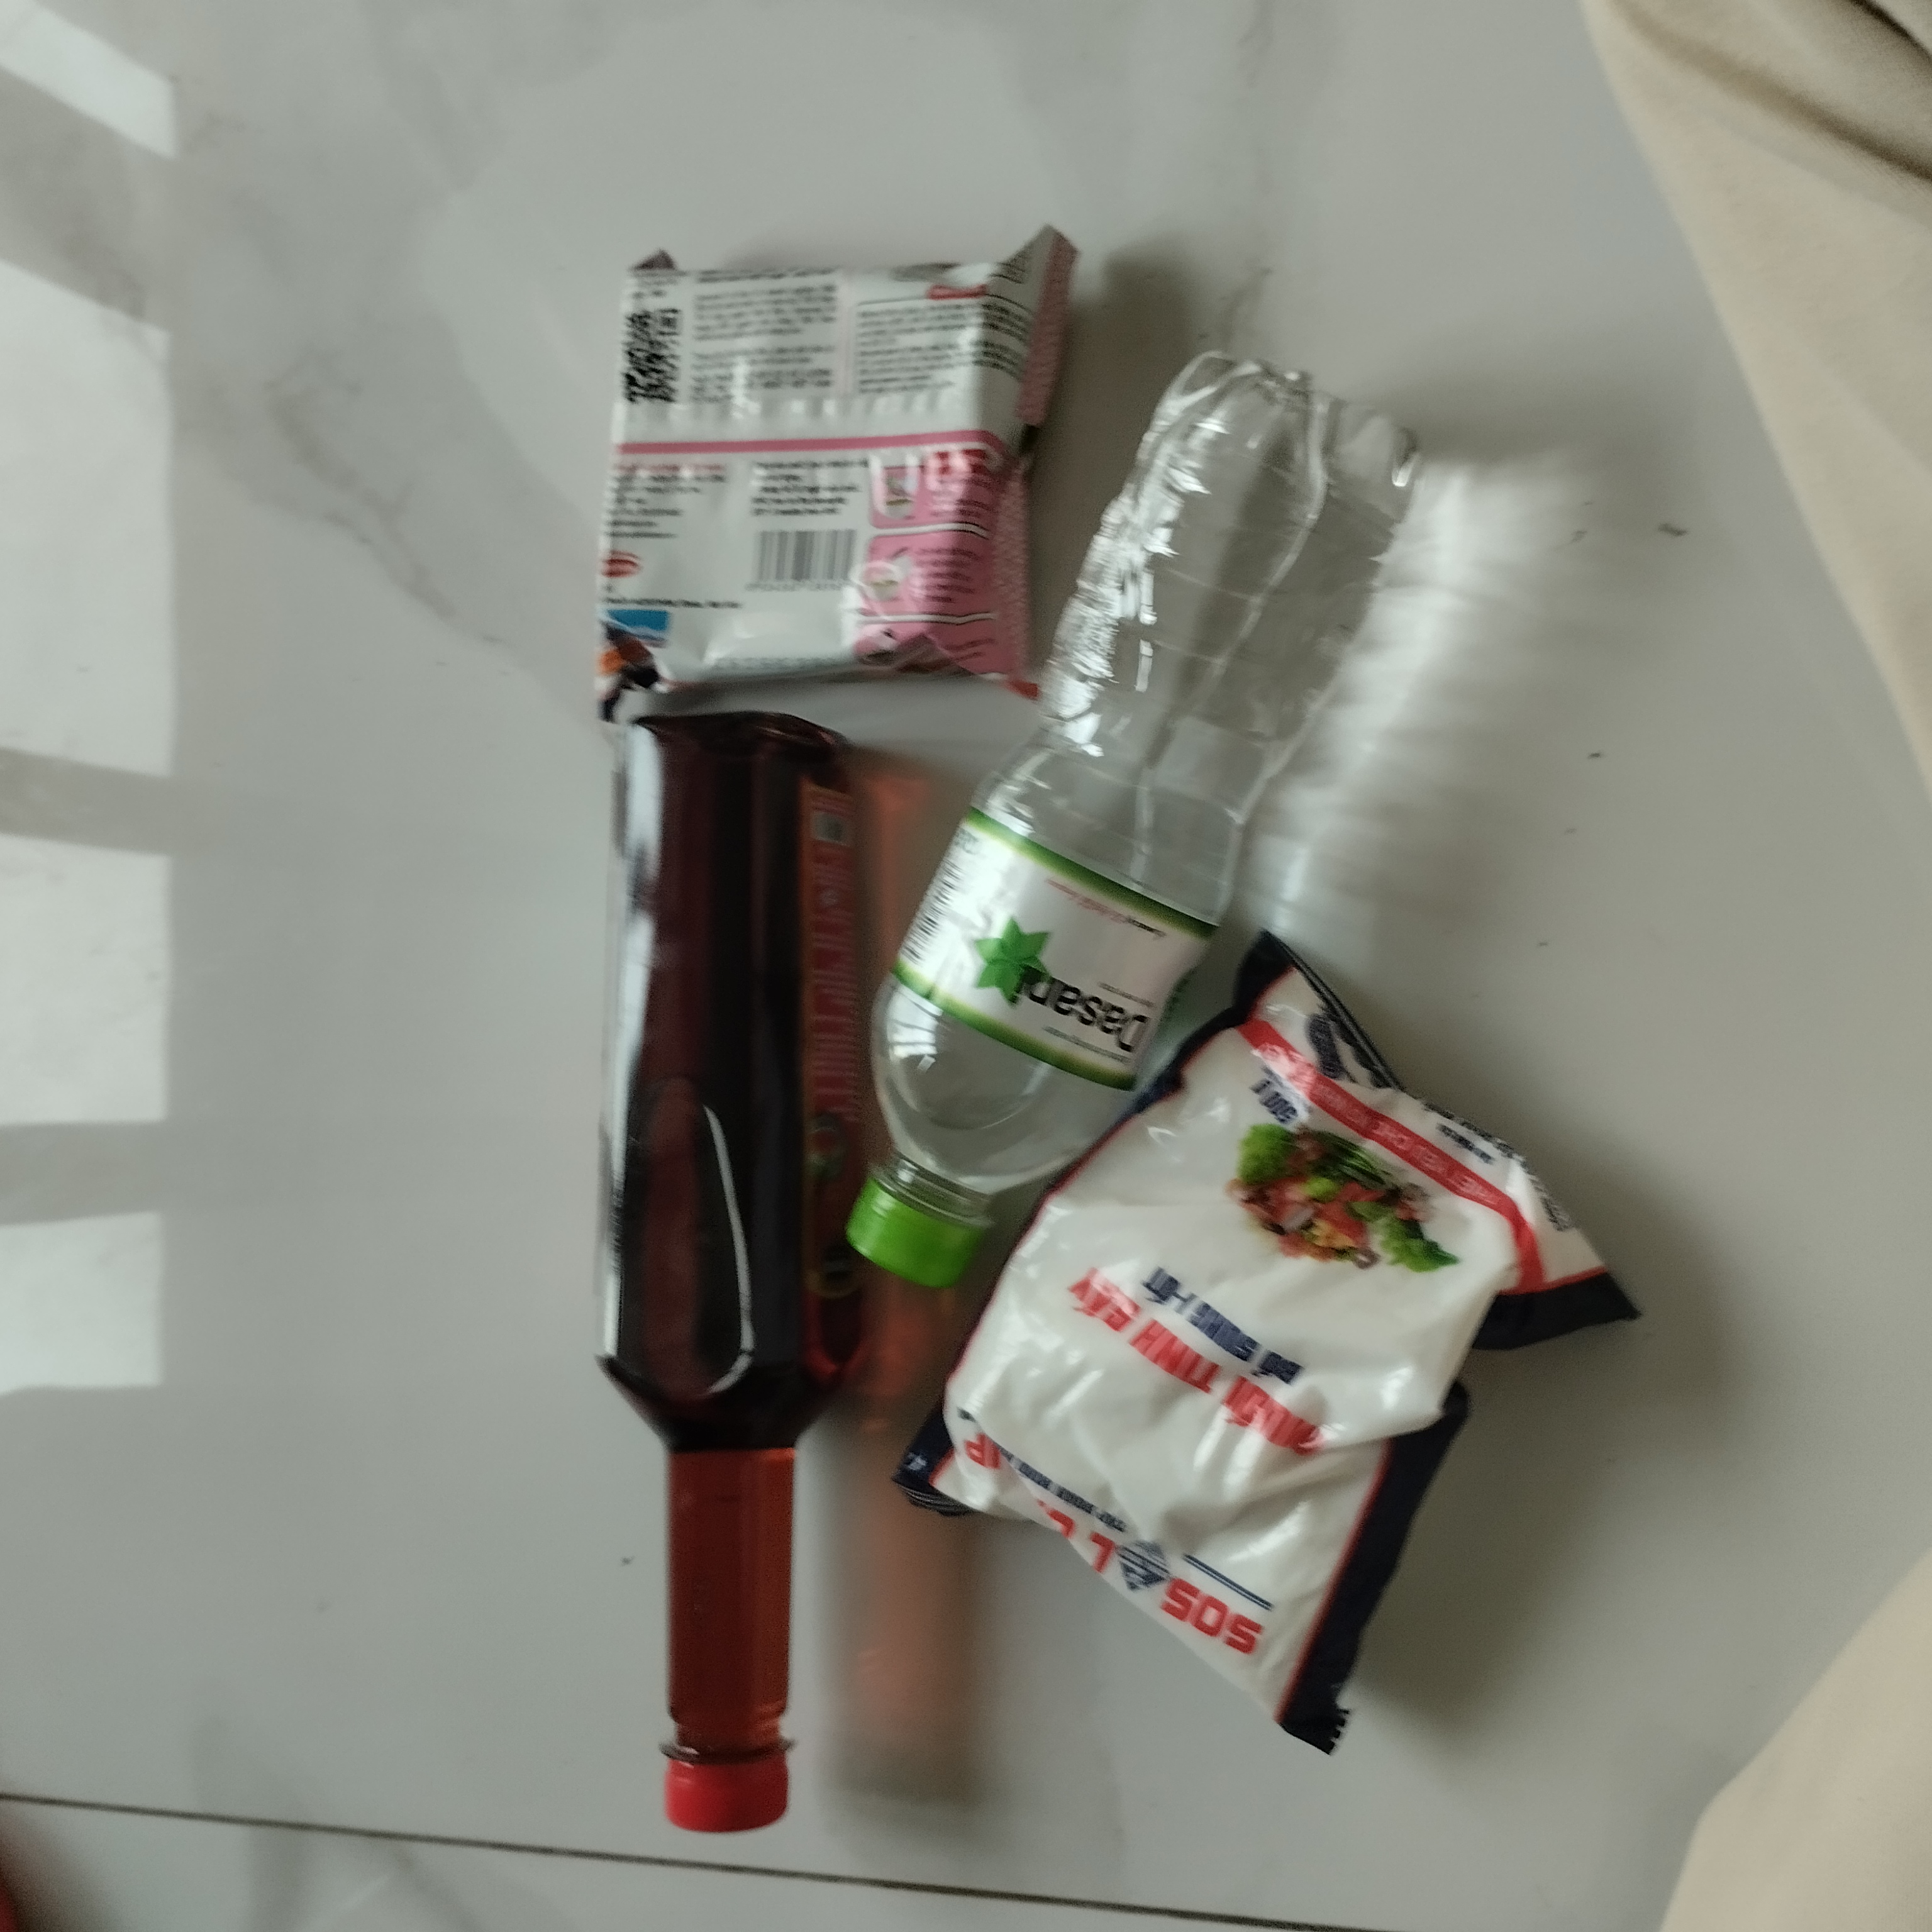Dasani: (828, 349, 1421, 1292)
Haohao: (577, 232, 1086, 702)
Namngu: (586, 708, 853, 1835)
Salt: (879, 927, 1633, 1760)
